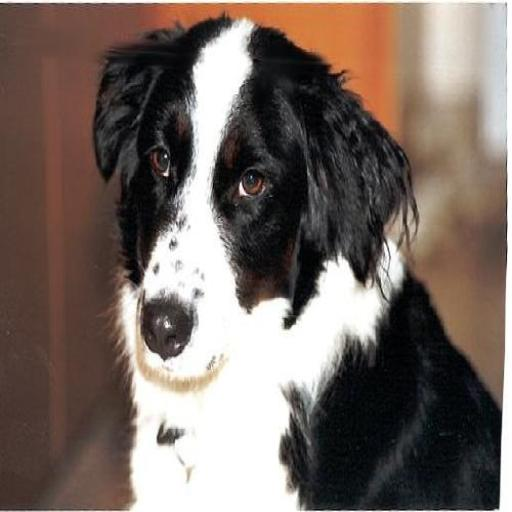dog_face: (94, 16, 416, 375)
